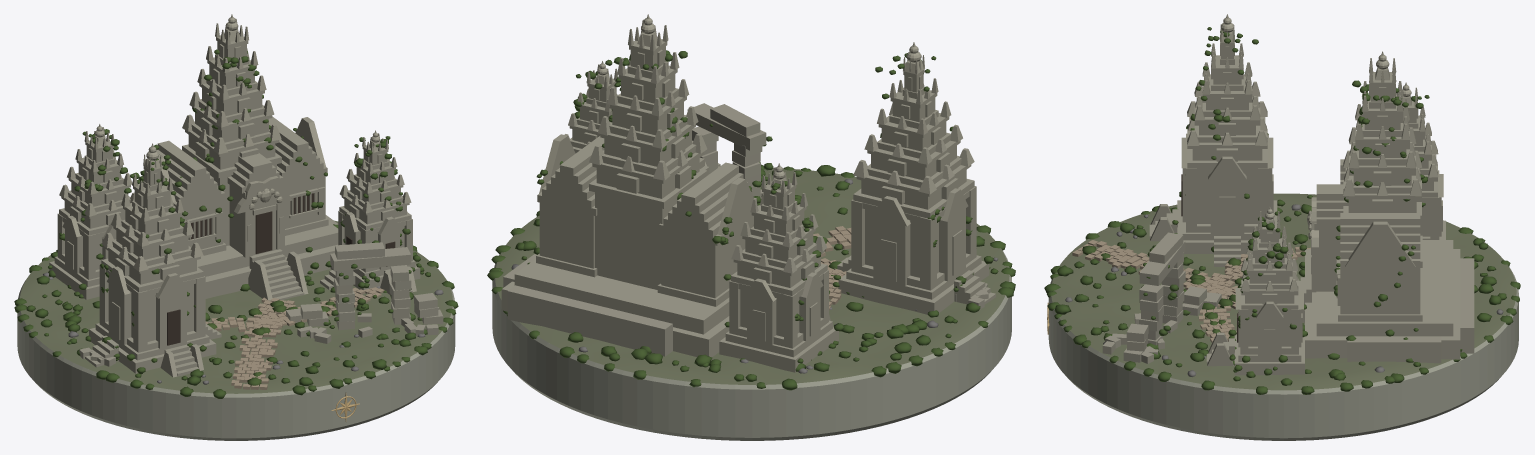
3 views of the same model, side by side, from view 1: azimuth 30°, elevation 25°; view 2: azimuth 150°, elevation 25°; view 3: azimuth 270°, elevation 25° (orthographic). The views are drawn at different scales.
Visible parts, largest first — view 1: Main_Temple_Sandstone_Structure, Round_Stone_Plinth_Wall, Mossy_Courtyard_Ground, Front_Left_Prasat_Sandstone_Shrine, Ivy_Vines_And_Shrubs, Rear_Left_Prasat_Sandstone_Shrine, Right_Prasat_Sandstone_Shrine, Ruined_Stone_Gateway, Sandstone_Paving_Paths, Main_Temple_Dark_Openings, Front_Left_Prasat_Dark_Doorway; view 2: Main_Temple_Sandstone_Structure, Round_Stone_Plinth_Wall, Front_Left_Prasat_Sandstone_Shrine, Mossy_Courtyard_Ground, Rear_Left_Prasat_Sandstone_Shrine, Ivy_Vines_And_Shrubs, Rear_Terrace_Ruined_Walls, Ruined_Stone_Gateway, Right_Prasat_Sandstone_Shrine, Sandstone_Paving_Paths; view 3: Main_Temple_Sandstone_Structure, Round_Stone_Plinth_Wall, Mossy_Courtyard_Ground, Front_Left_Prasat_Sandstone_Shrine, Ivy_Vines_And_Shrubs, Right_Prasat_Sandstone_Shrine, Ruined_Stone_Gateway, Rear_Terrace_Ruined_Walls, Sandstone_Paving_Paths, Rear_Left_Prasat_Sandstone_Shrine.
Part boxes in pixels (x1,y1,x2,y2): Main_Temple_Sandstone_Structure: [138, 14, 338, 301]; Round_Stone_Plinth_Wall: [17, 275, 455, 440]; Mossy_Courtyard_Ground: [20, 220, 452, 393]; Front_Left_Prasat_Sandstone_Shrine: [85, 143, 221, 377]; Ivy_Vines_And_Shrubs: [14, 49, 458, 398]; Rear_Left_Prasat_Sandstone_Shrine: [49, 124, 134, 299]; Right_Prasat_Sandstone_Shrine: [320, 130, 420, 295]; Ruined_Stone_Gateway: [286, 242, 443, 343]; Sandstone_Paving_Paths: [205, 287, 384, 389]; Main_Temple_Dark_Openings: [191, 193, 313, 253]; Front_Left_Prasat_Dark_Doorway: [167, 309, 180, 345]; Main_Temple_Sandstone_Structure: [501, 14, 759, 357]; Round_Stone_Plinth_Wall: [492, 249, 1011, 440]; Front_Left_Prasat_Sandstone_Shrine: [836, 42, 995, 314]; Mossy_Courtyard_Ground: [495, 168, 1009, 384]; Rear_Left_Prasat_Sandstone_Shrine: [719, 163, 838, 372]; Ivy_Vines_And_Shrubs: [487, 50, 1015, 390]; Rear_Terrace_Ruined_Walls: [503, 254, 672, 356]; Ruined_Stone_Gateway: [687, 103, 766, 205]; Right_Prasat_Sandstone_Shrine: [564, 61, 618, 153]; Sandstone_Paving_Paths: [813, 226, 851, 310]; Main_Temple_Sandstone_Structure: [1297, 51, 1460, 359]; Round_Stone_Plinth_Wall: [1048, 267, 1518, 440]; Mossy_Courtyard_Ground: [1051, 193, 1516, 390]; Front_Left_Prasat_Sandstone_Shrine: [1149, 14, 1277, 266]; Ivy_Vines_And_Shrubs: [1044, 27, 1520, 394]; Right_Prasat_Sandstone_Shrine: [1206, 206, 1304, 375]; Ruined_Stone_Gateway: [1102, 232, 1221, 363]; Rear_Terrace_Ruined_Walls: [1347, 258, 1474, 363]; Sandstone_Paving_Paths: [1072, 240, 1310, 342]; Rear_Left_Prasat_Sandstone_Shrine: [1396, 82, 1445, 239].
Bounding box in the file's own units: 0.9961 × 0.726 × 1.
